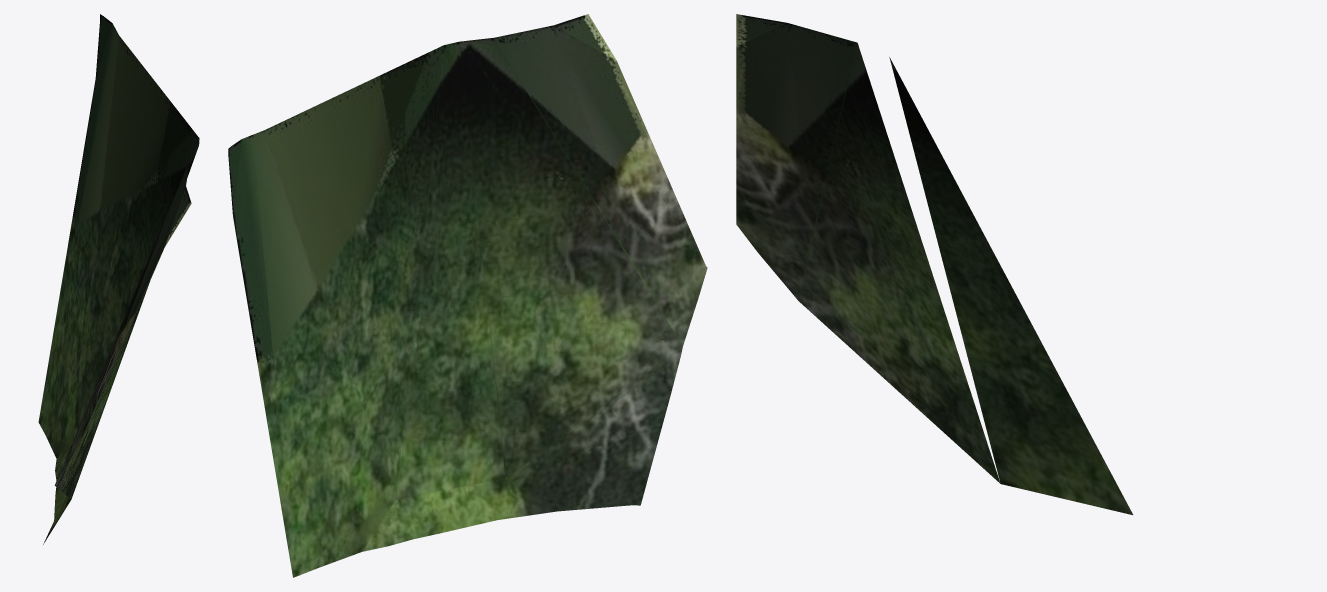
3 renders of one model, left to right at view 1: azimuth 30°, elevation 25°; view 2: azimuth 150°, elevation 25°; view 3: azimuth 270°, elevation 25°, orthographic. The views are drawn at different scales.
Bounding box in the file's own units: 3.76 × 5.9 × 5.9.
3 materials, 3 textured.
